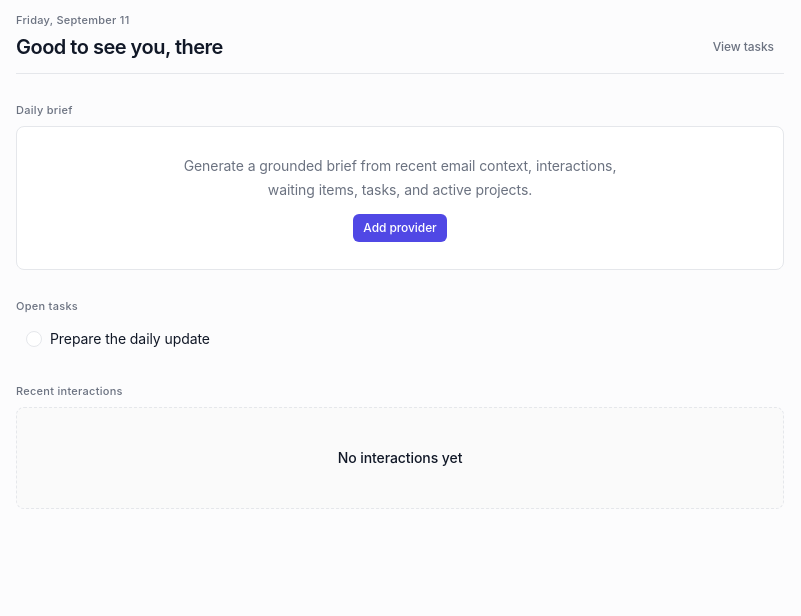
Test: TodaySurface task completion › completes an open task from the Today row
Click the checkbox named "Complete Prepare the daily update".
click(34, 338)  # box [26, 330, 42, 346]
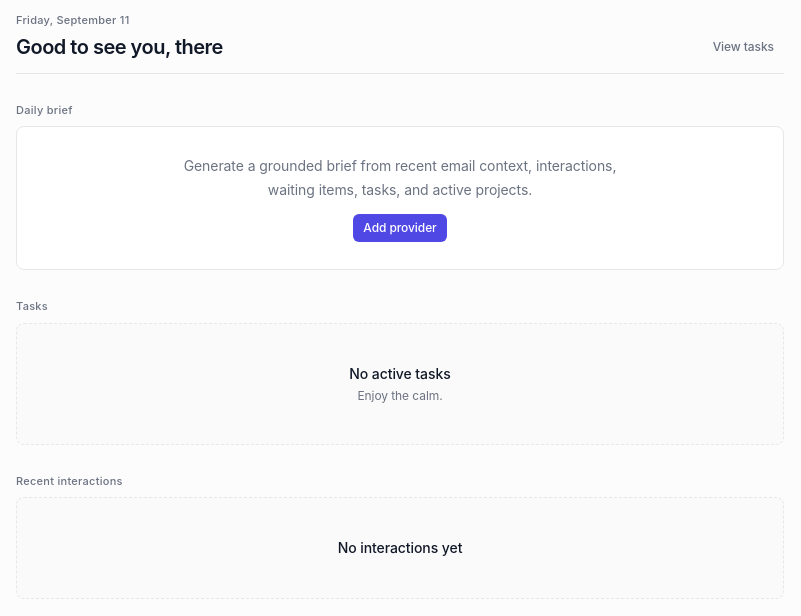
expect the text "No active tasks" is shown: met, box [349, 364, 451, 384]
expect the button "Prepare the daily update" is gone: met
